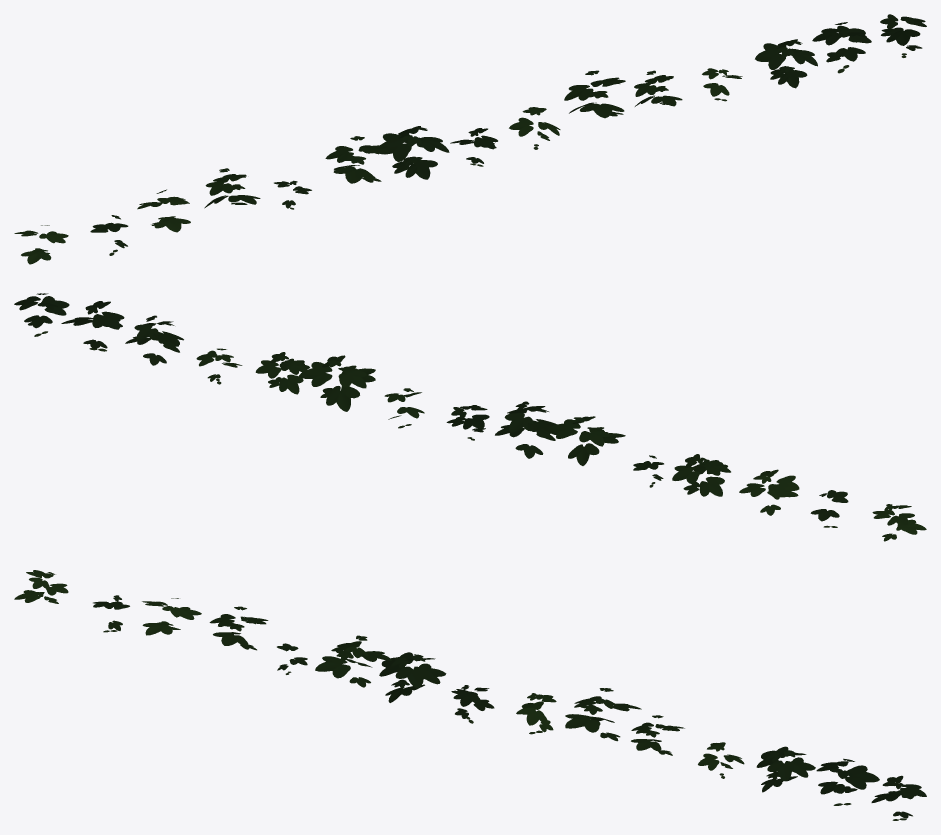
File: ROW_21_SEG4_foliage.dae
3 renders of one model, top to bottom at view 1: azimuth 30°, elevation 25°; view 2: azimuth 150°, elevation 25°; view 3: azimuth 330°, elevation 25°, orthographic.
Parts seen in each view (by area): view 1: ROW_21_SEG4_foliage; view 2: ROW_21_SEG4_foliage; view 3: ROW_21_SEG4_foliage.
Part boxes in pixels (x1,y1,x2,y2): ROW_21_SEG4_foliage: (14, 14, 926, 264); ROW_21_SEG4_foliage: (14, 293, 926, 541); ROW_21_SEG4_foliage: (14, 570, 926, 820).
Size of the model in its own units: 4.5 by 0.3286 by 0.261.
